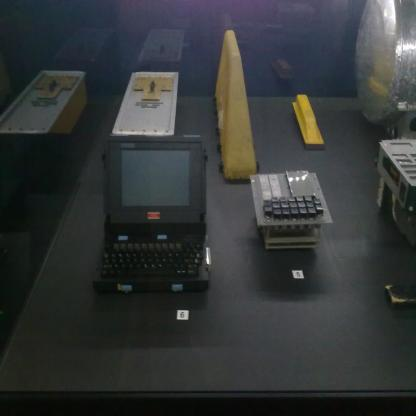board: (92, 135, 210, 290)
